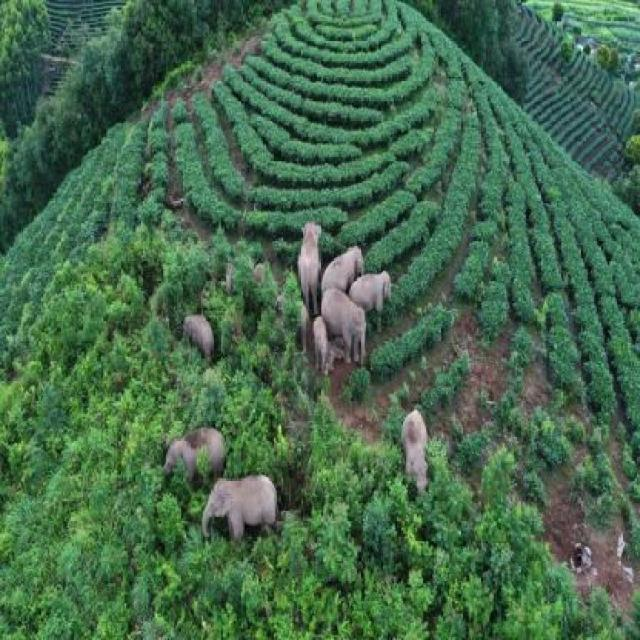elephant: (204, 455, 282, 523), (160, 414, 234, 464), (318, 302, 374, 368), (402, 401, 438, 496), (328, 238, 369, 300), (302, 306, 332, 386), (354, 268, 406, 314), (294, 220, 324, 298), (178, 317, 214, 369), (239, 256, 273, 301), (228, 263, 234, 300)
